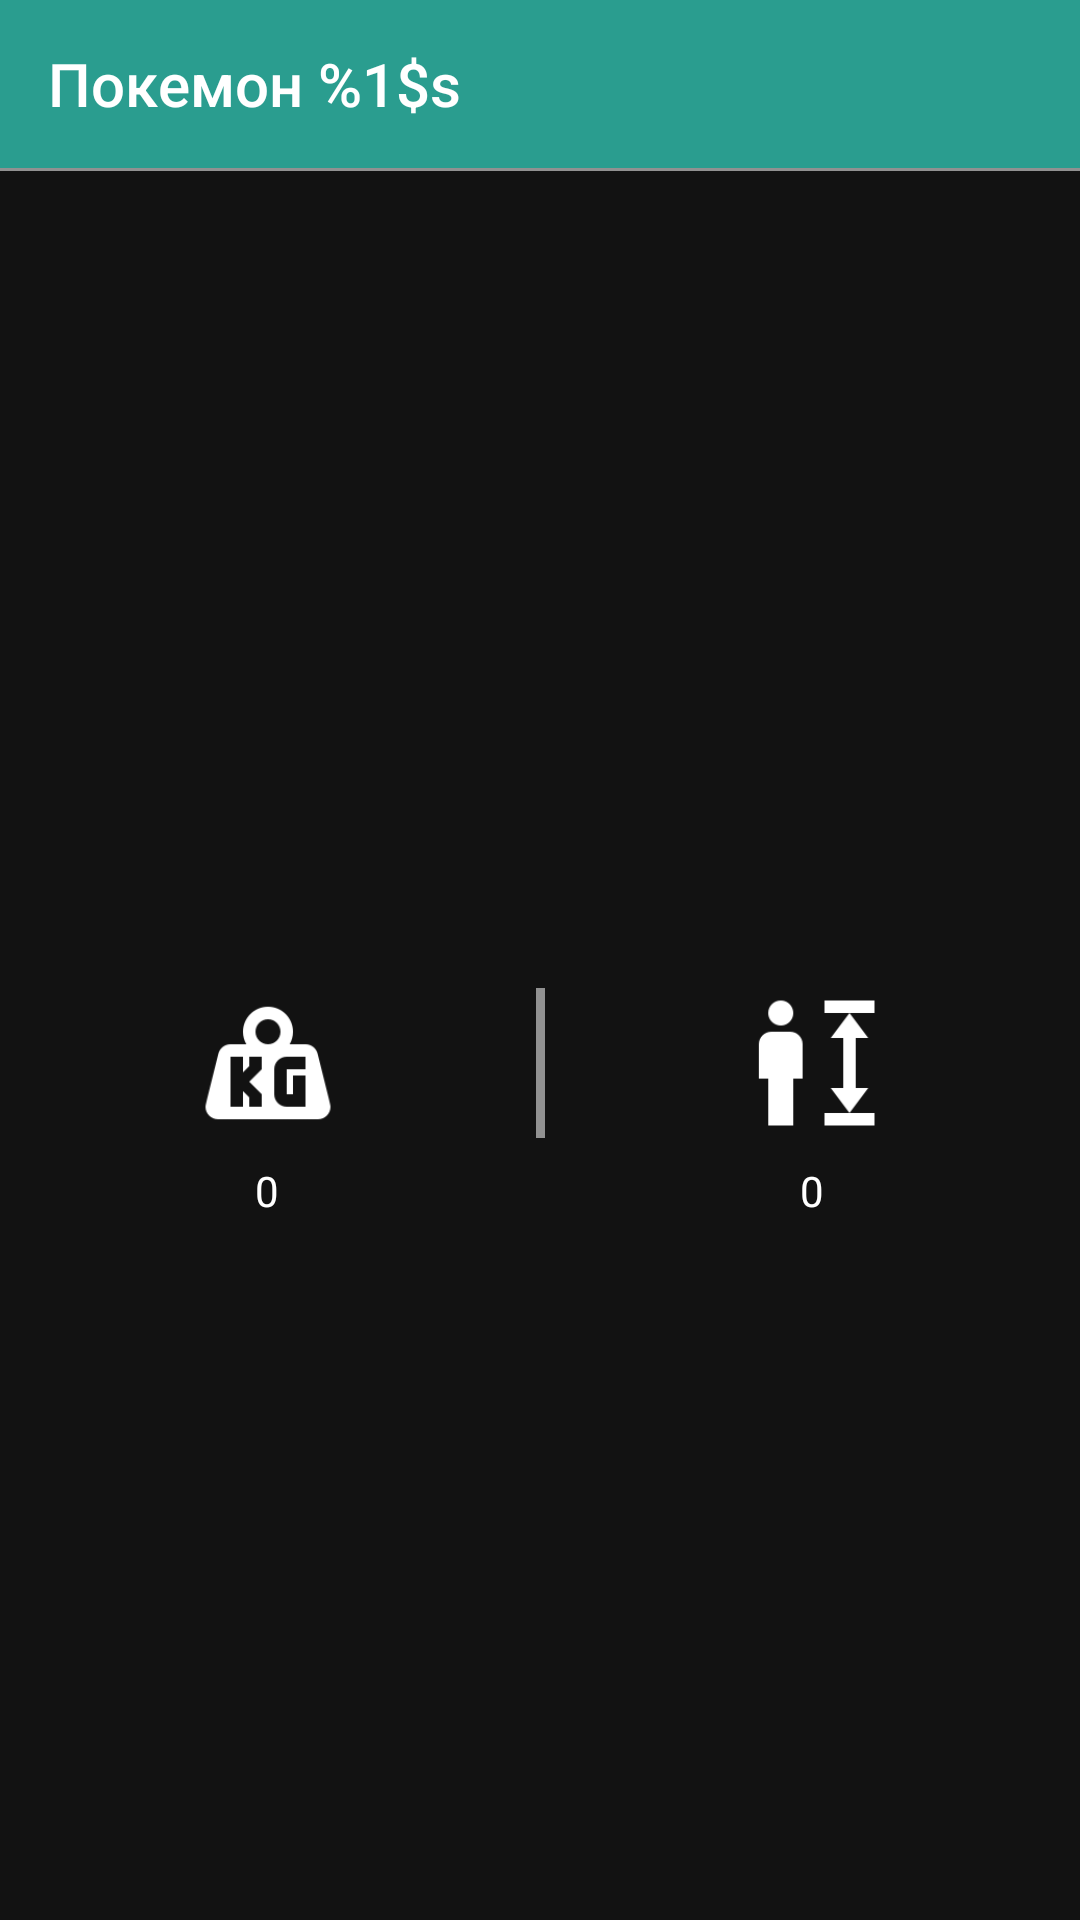

Icons on this 1080x1920 Android screen, each with its box as (x1, y1, x2, y2):
human male height variant: (758, 1000, 875, 1126)
